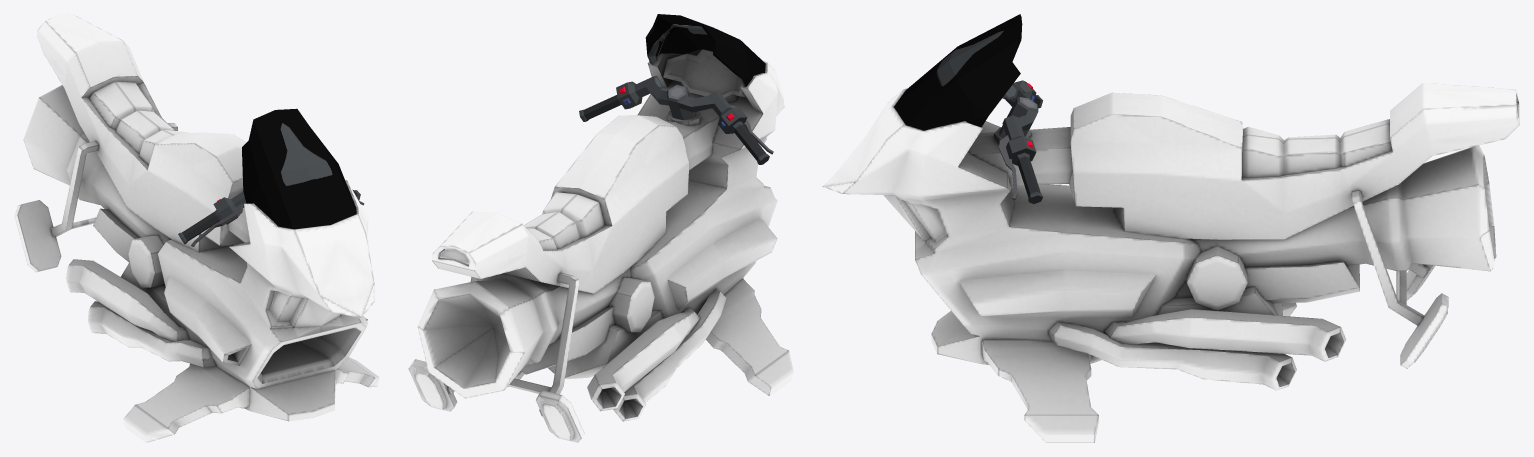
The model's file is bike-uved.fbx.
The picture shows the model from 3 angles, left to right: view 1: azimuth 30°, elevation 25°; view 2: azimuth 150°, elevation 25°; view 3: azimuth 270°, elevation 25°; orthographic projection. The views are drawn at different scales.
Visible parts, largest first — view 1: SM_Veh_Hover_Bike_UVed, SM_Veh_Hover_Bike_01_Glass, SM_Veh_Hover_Bike_01_HandleBars; view 2: SM_Veh_Hover_Bike_UVed, SM_Veh_Hover_Bike_01_HandleBars, SM_Veh_Hover_Bike_01_Glass; view 3: SM_Veh_Hover_Bike_UVed, SM_Veh_Hover_Bike_01_Glass, SM_Veh_Hover_Bike_01_HandleBars.
Part boxes in pixels (x1,y1,x2,y2): SM_Veh_Hover_Bike_UVed: [14, 14, 379, 442]; SM_Veh_Hover_Bike_01_Glass: [242, 108, 356, 229]; SM_Veh_Hover_Bike_01_HandleBars: [178, 189, 364, 246]; SM_Veh_Hover_Bike_UVed: [408, 49, 793, 442]; SM_Veh_Hover_Bike_01_HandleBars: [579, 75, 773, 164]; SM_Veh_Hover_Bike_01_Glass: [645, 14, 765, 87]; SM_Veh_Hover_Bike_UVed: [822, 83, 1519, 442]; SM_Veh_Hover_Bike_01_Glass: [894, 14, 1022, 130]; SM_Veh_Hover_Bike_01_HandleBars: [999, 80, 1042, 203].
Size of the model in its own units: 102 by 129 by 228.
3 materials, 2 textured.
